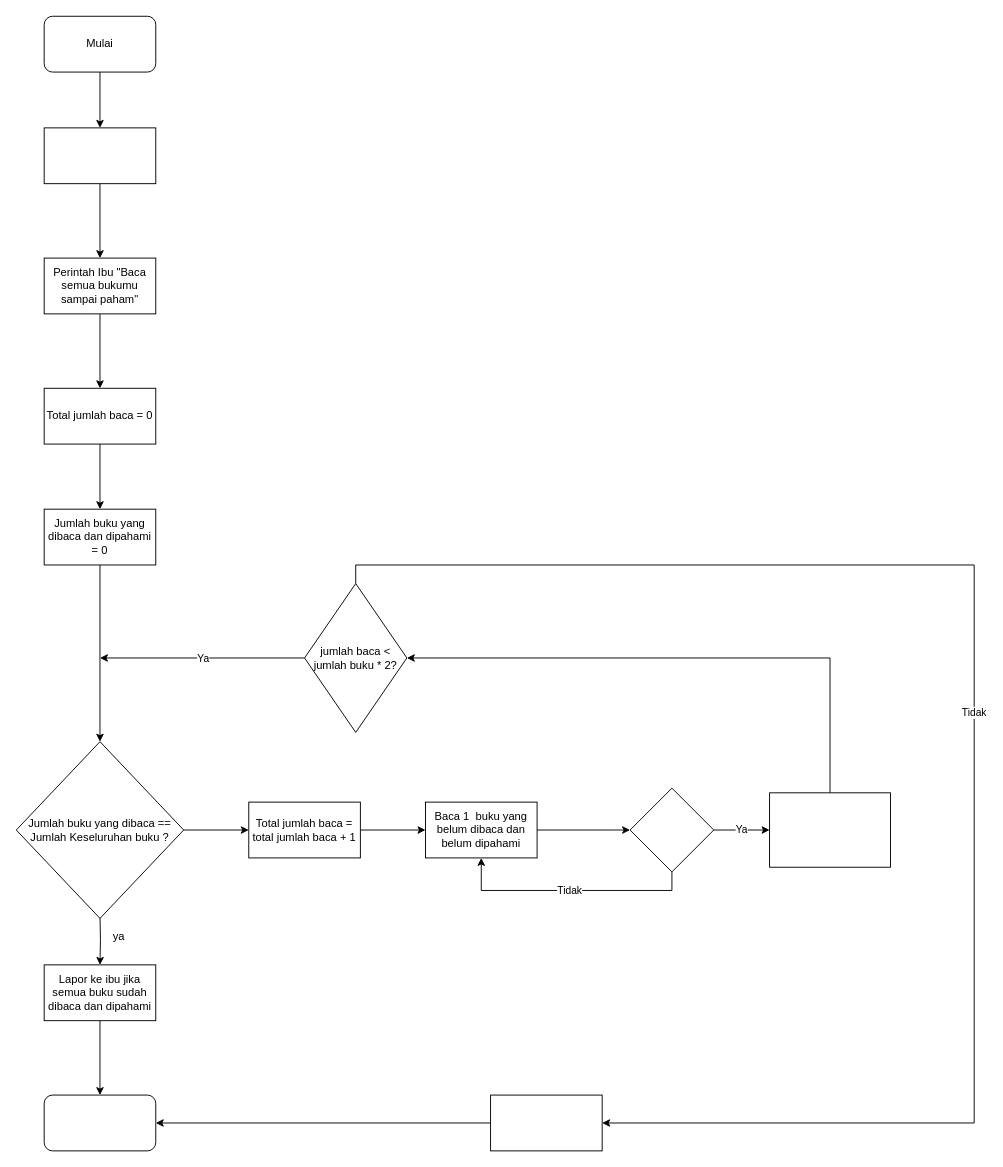
The diagram is 1003 pixels wide and 1167 high, and some of its shapes have lost their labels. The shapes that lost their labels are listed below. From the top down, each one's box as (x1, y1, x2, y2) in pixels, then its label:
(43, 127, 156, 184): Jumlah keseluruhan buku = 10
(629, 787, 714, 872): Paham?
(769, 792, 890, 867): Jumlah buku yang dibaca dan dipahami = Jumlah buku yang dibaca dan dipahami + 1
(43, 1094, 156, 1151): Selesai
(490, 1094, 602, 1151): Lapor ke ibu jika tidak semua buku bisa dipahami
